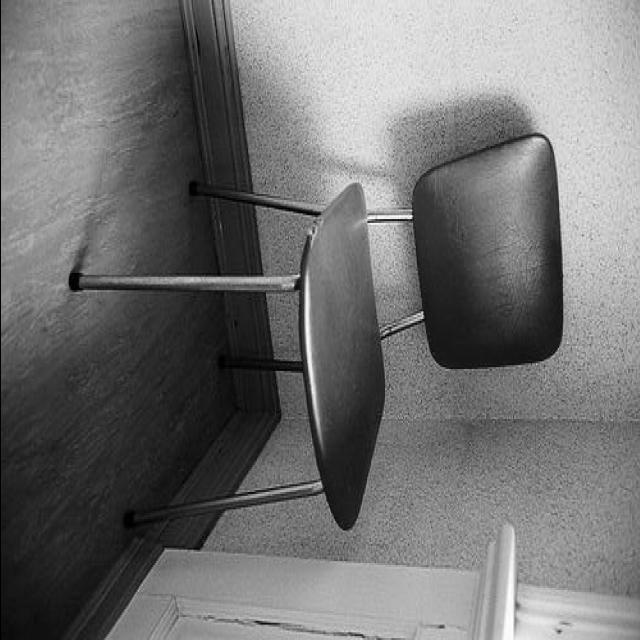chair: (70, 108, 566, 544)
